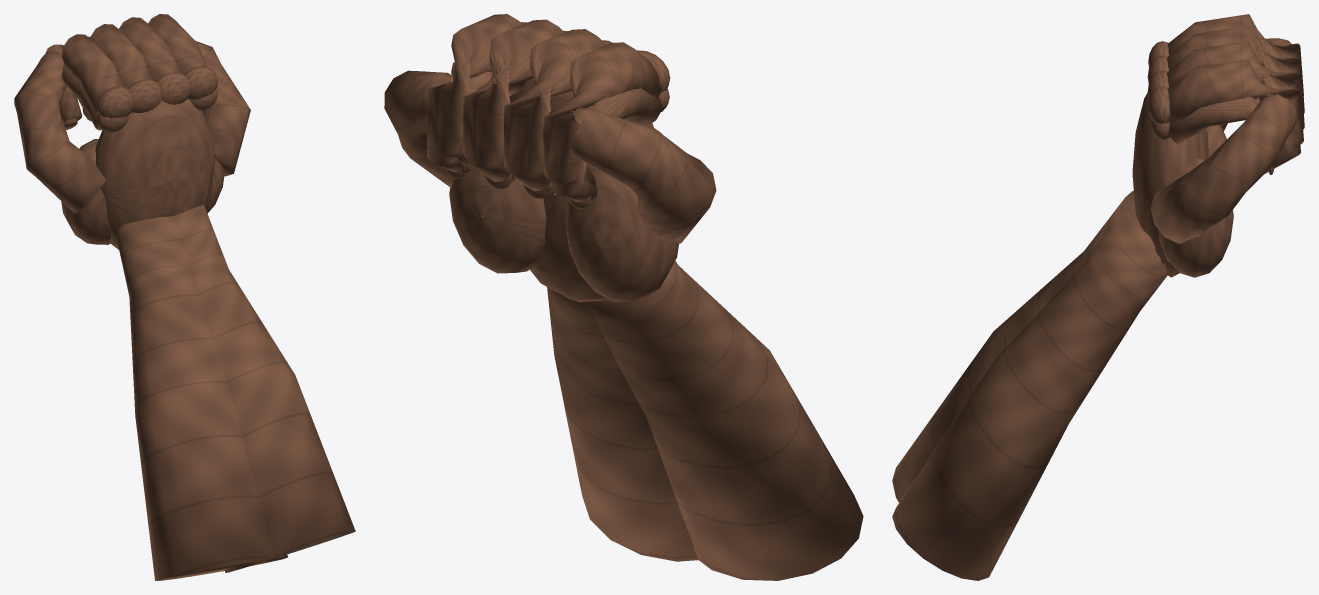
File: hands.glb
The picture shows the model from 3 angles, left to right: view 1: azimuth 30°, elevation 25°; view 2: azimuth 150°, elevation 25°; view 3: azimuth 270°, elevation 25°; orthographic projection. The views are drawn at different scales.
Visible parts, largest first — view 1: hand_left, hand_right; view 2: hand_left, hand_right; view 3: hand_right, hand_left.
Boxes of the visible parts, <box> form: hand_left: <box>61,14,287,580</box>; hand_right: <box>14,24,355,572</box>; hand_left: <box>384,14,863,580</box>; hand_right: <box>427,29,716,561</box>; hand_right: <box>892,14,1304,580</box>; hand_left: <box>892,40,1304,502</box>.
Bounding box in the file's own units: 0.1593 × 0.3197 × 0.2324.
Materials: 1 (1 with a texture image).
